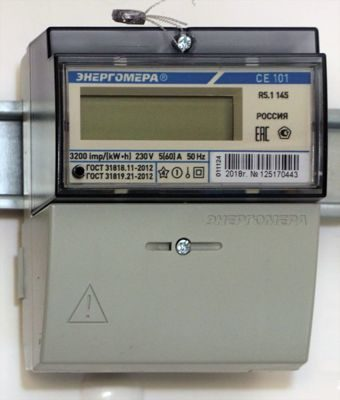counter: (46, 25, 327, 328)
counter_screen: (77, 90, 239, 144)
